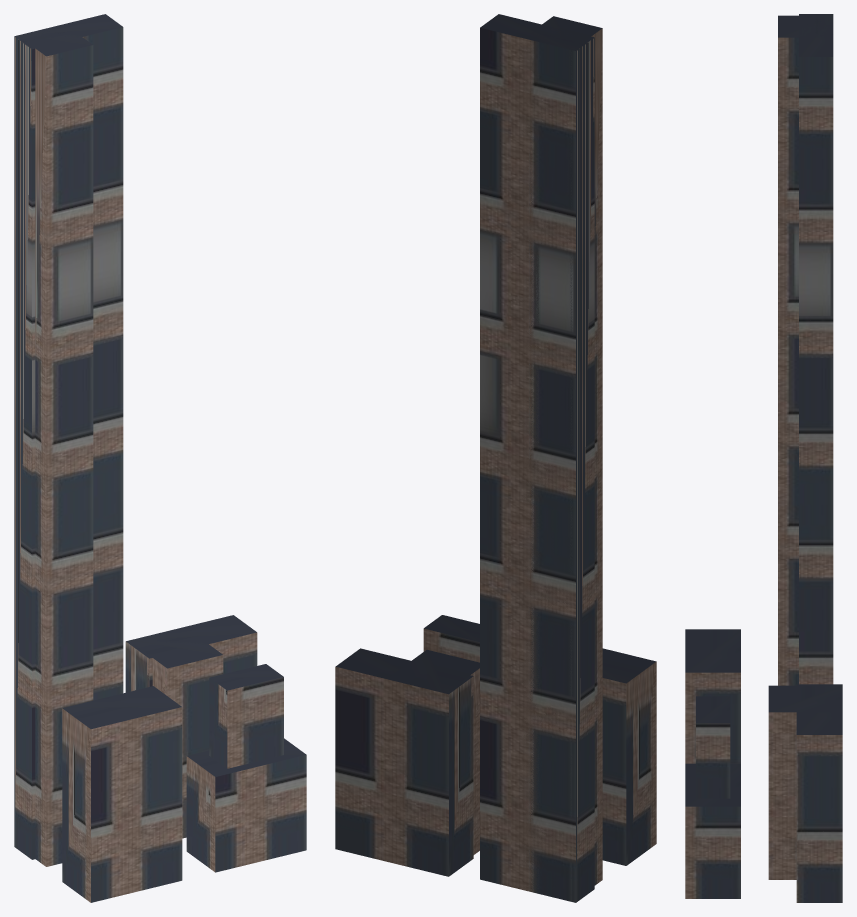
The model's file is city_block_12345_6_15.glb.
The picture shows the model from 3 angles, left to right: view 1: azimuth 30°, elevation 25°; view 2: azimuth 150°, elevation 25°; view 3: azimuth 270°, elevation 25°; orthographic projection. The views are drawn at different scales.
Visible parts, largest first — view 1: block_15; view 2: block_15; view 3: block_15.
Part boxes in pixels (<box>): block_15: <box>14,14,306,902</box>; block_15: <box>335,14,656,902</box>; block_15: <box>685,14,842,902</box>.
Bounding box in the file's own units: 4.05 × 14 × 2.55.
4 materials, 4 textured.
